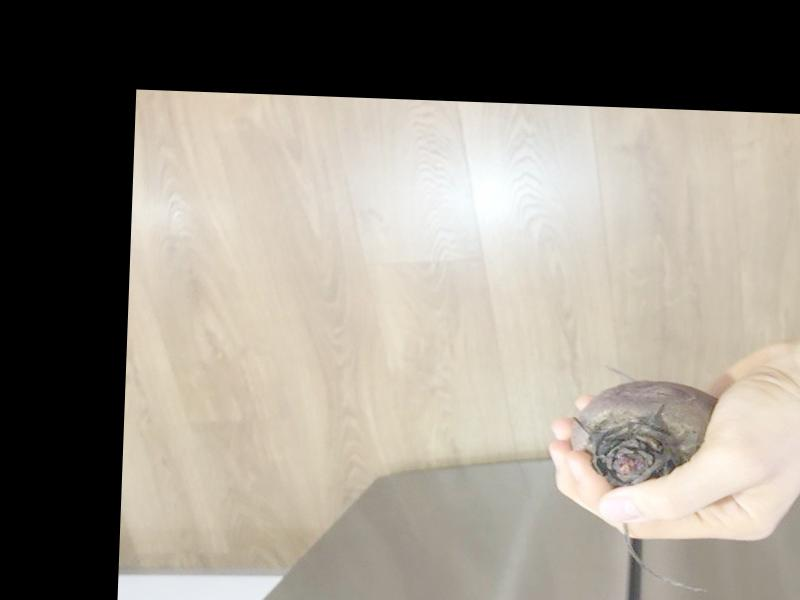Beet: (564, 378, 719, 593)
